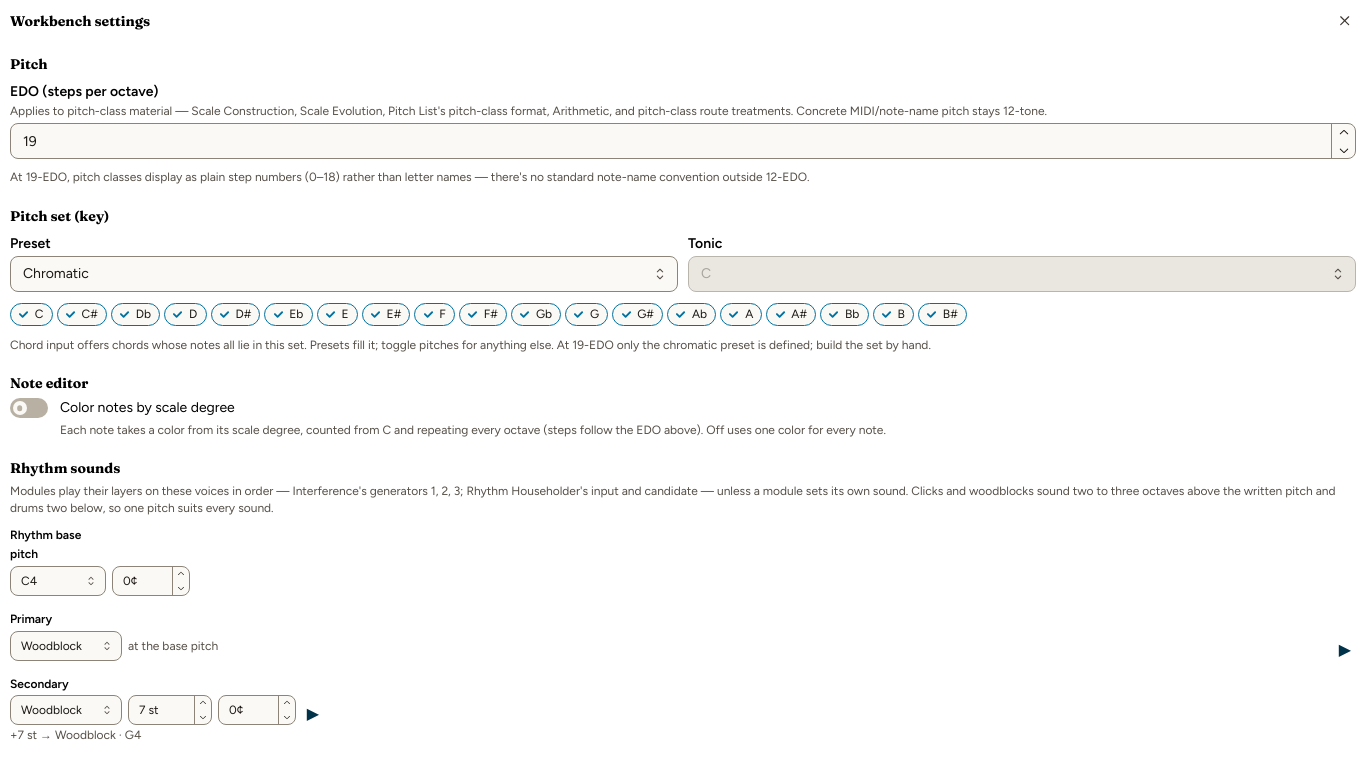
Test: pitch set control › outside 12-EDO offers only chromatic and disables the tonic
This screenshot has width=1366, height=761.
Expected: the dropdown labelled "Tonic" is disabled, [688,256,1356,292]
What coordinates should you click on to do the following:
click the dropdown labelled "Preset"
I would click on:
 (344, 274)
Its box is [10,256,678,292].
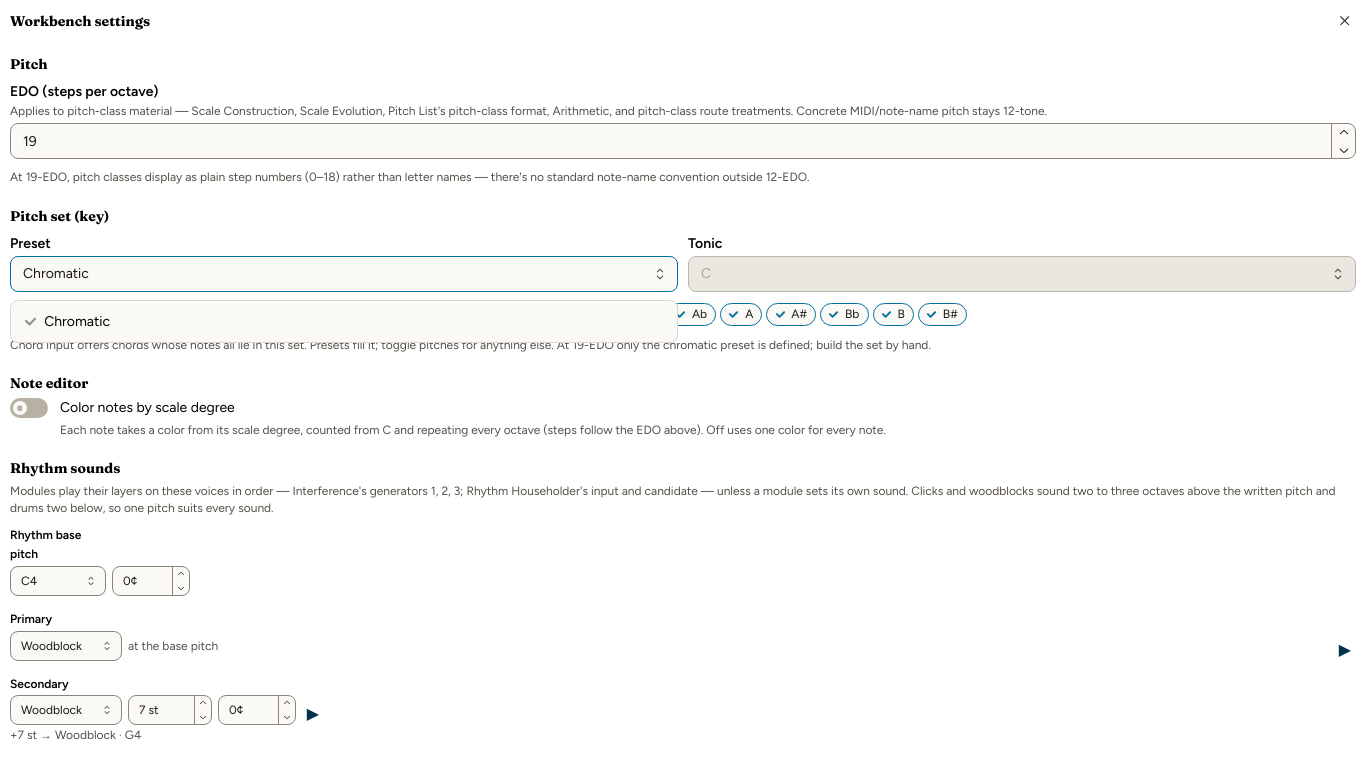
Result: the number of options is 1 at [25,313,110,330]
